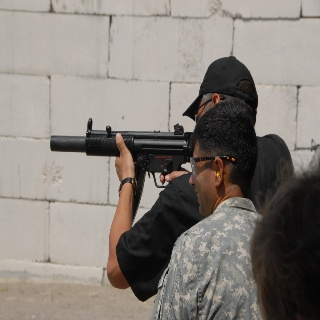rifle: (50, 118, 195, 191)
